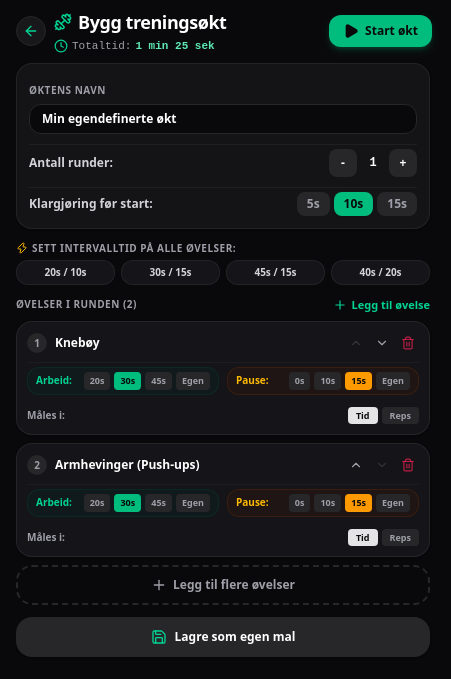
Programbyggeren — repetisjoner i stedet for tid › lar øvelsen måles i repetisjoner
Click the button with aria-label "Mål Knebøy i repetisjoner". click: (400,415)
box: [382,406,419,424]
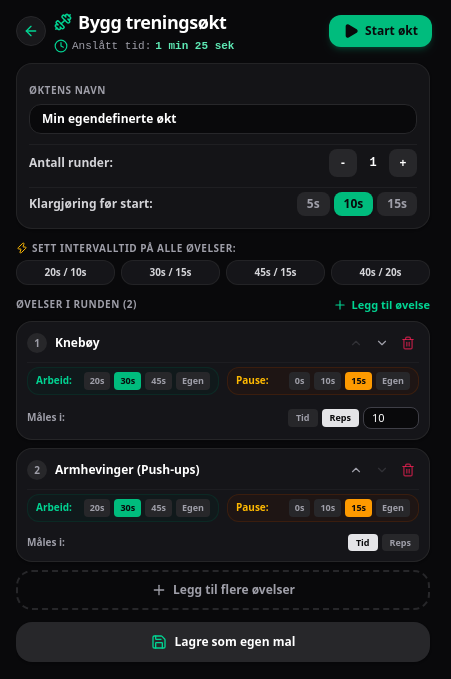
Expected: the number field named "Antall repetisjoner for Knebøy" holds "10", [363,406,419,429]
